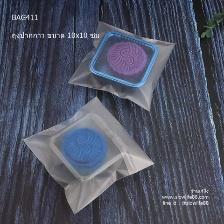snack: (17, 90, 160, 217), (62, 15, 182, 116)
